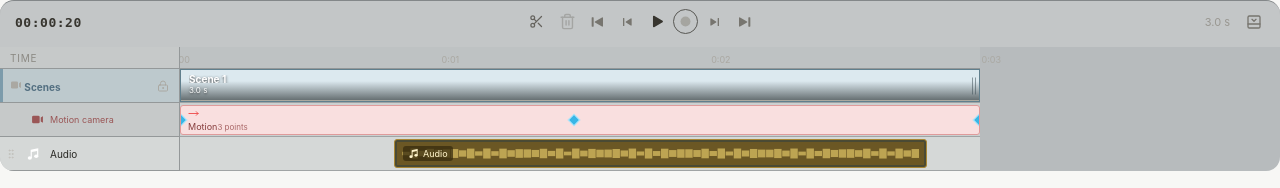
it: Punti e maniglie del movimento › mostra le due metà di un audio tagliato sulla stessa traccia
Click the button with class "audio-layer" at x=661, y=154, box [394,139,927,168]
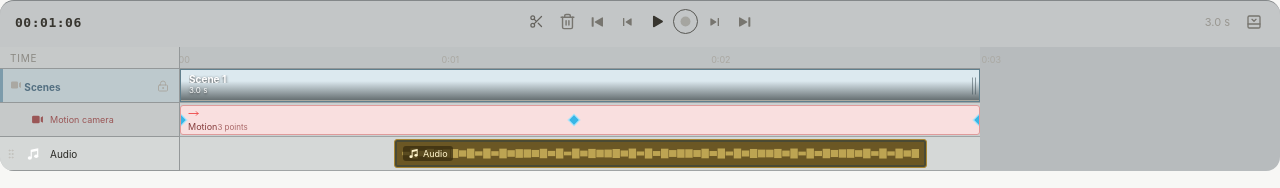
Click the button named "Split clip at playhead" at x=536, y=22, box [522,7,550,36]
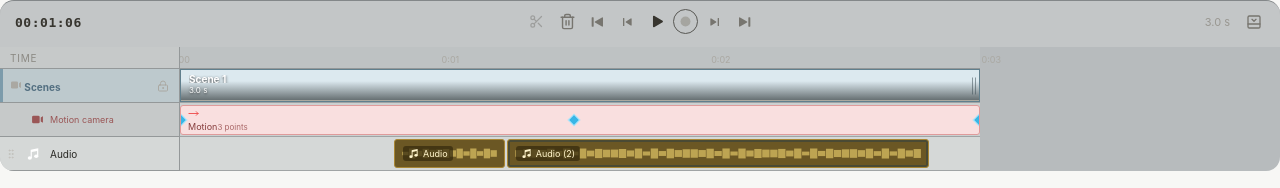
expect the number of buttons with class "audio-layer" is 2: met, box [394,139,505,168]; [507,139,929,168]
